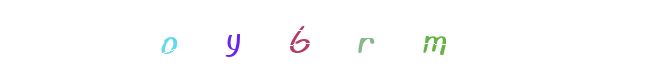6: (259, 0, 339, 80)
M: (374, 0, 454, 80)
O: (189, 0, 269, 80)
R: (282, 0, 362, 80)
Y: (193, 0, 273, 80)
